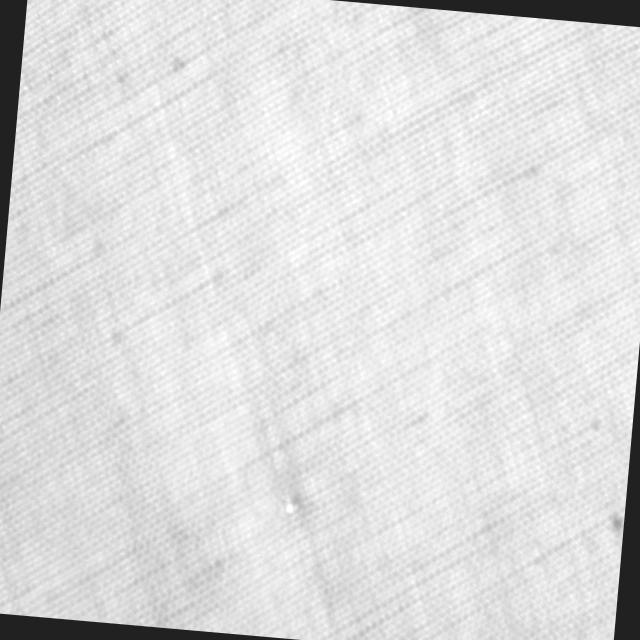hole: (274, 488, 304, 524)
